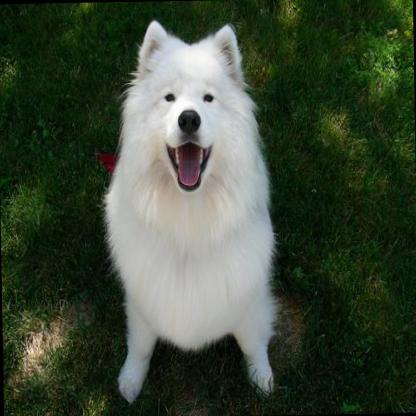Samoyed: (94, 13, 282, 398)
